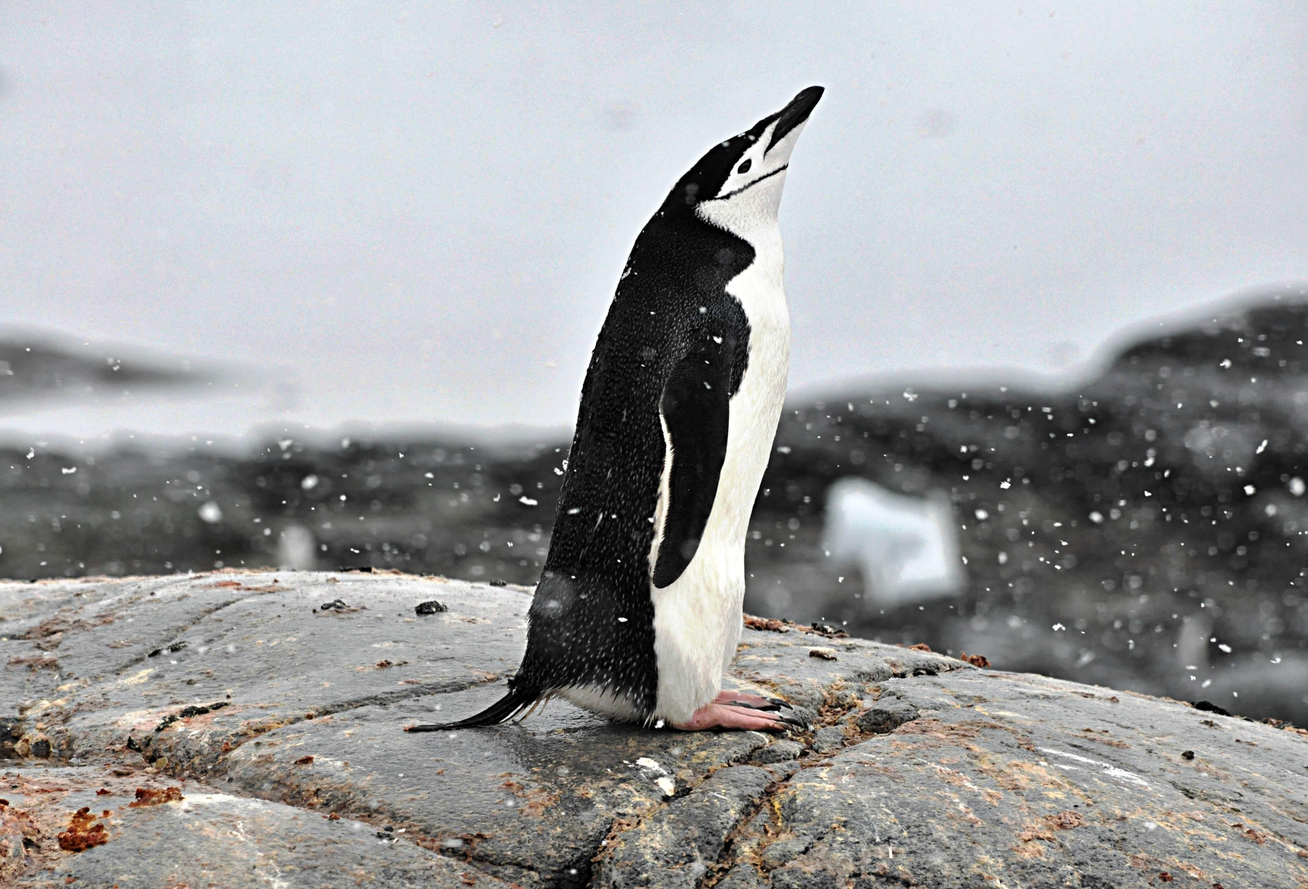Penguin: (406, 87, 823, 733)
